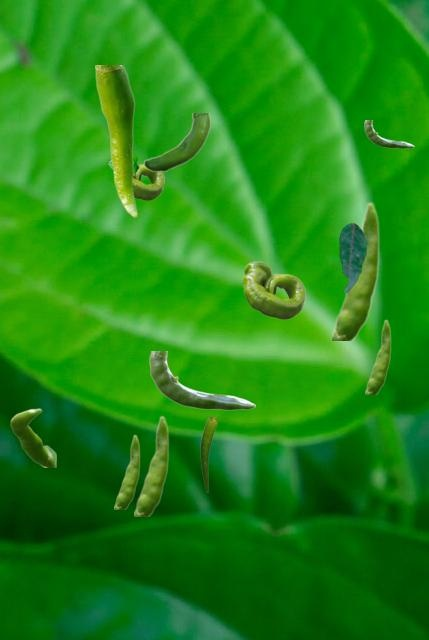green_chili: (332, 201, 379, 339), (95, 65, 136, 216), (149, 351, 254, 409), (143, 113, 209, 171), (242, 261, 304, 318), (134, 415, 168, 515), (10, 408, 55, 466), (365, 319, 390, 393), (114, 434, 139, 508), (364, 120, 413, 147), (200, 417, 216, 491), (133, 161, 163, 199)
